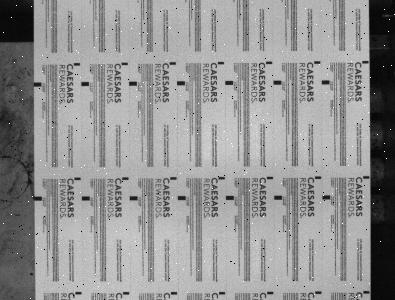qblock: (273, 80, 282, 85), (129, 196, 138, 201), (274, 195, 283, 200), (129, 81, 137, 86), (177, 81, 185, 86), (82, 196, 90, 201), (322, 195, 330, 200), (34, 82, 41, 87), (322, 80, 330, 84), (81, 82, 89, 86), (225, 81, 233, 85), (178, 196, 186, 200), (226, 196, 234, 200), (34, 197, 42, 201)
smallqblock: (362, 60, 369, 64), (218, 176, 225, 180), (170, 61, 176, 65), (218, 61, 224, 65), (171, 176, 177, 180), (74, 177, 81, 180), (363, 176, 370, 179), (75, 291, 82, 294), (267, 291, 274, 294), (171, 291, 178, 294), (219, 291, 226, 294), (315, 291, 322, 294), (363, 290, 370, 293), (314, 61, 321, 64), (74, 63, 80, 66), (266, 61, 272, 64), (122, 177, 128, 180), (267, 176, 273, 179), (315, 176, 321, 179), (123, 291, 129, 294), (122, 62, 128, 65)
